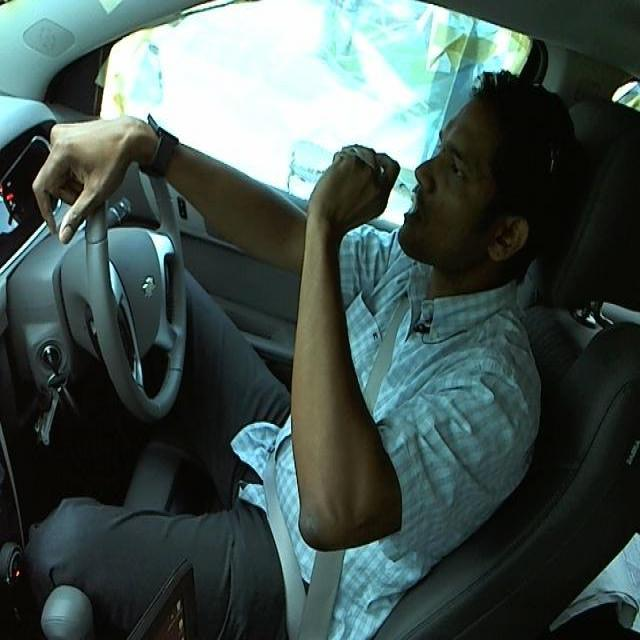drinking: (282, 133, 426, 215)
